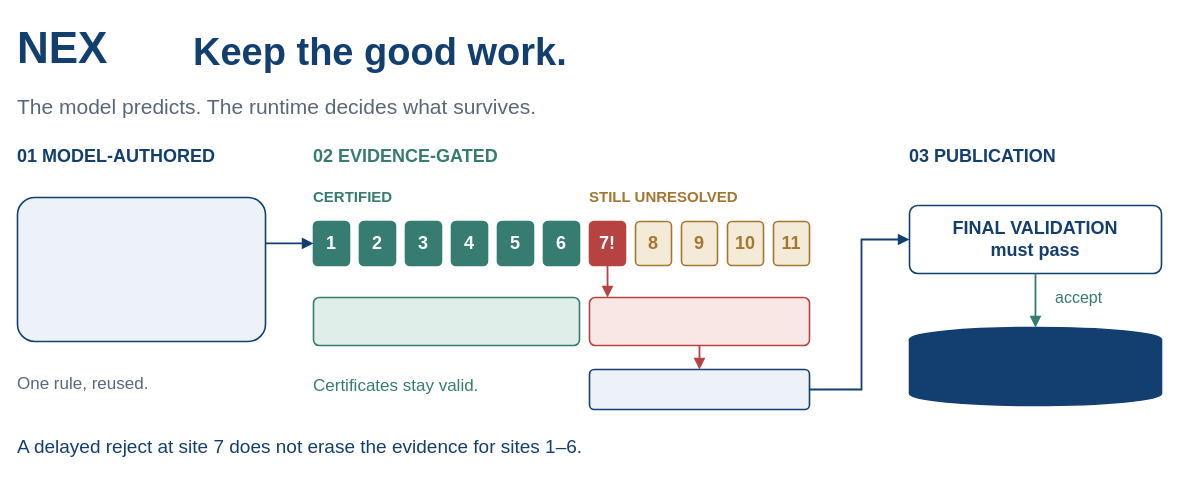
The diagram is 1180 pixels wide and 478 high, and some of its shapes have lost their labels. Here are the shapes that lost their labels. From the top down, the centre of each, then its label:
the point at 141,269: p = semantic(samples) for site in sites: apply_change(site, p)
the point at 446,321: KEEP 1–6
the point at 699,321: REPLAY 7–11
the point at 1035,366: PUBLISH ONCE local SQLite sink
the point at 699,389: Continue sites 12–16
